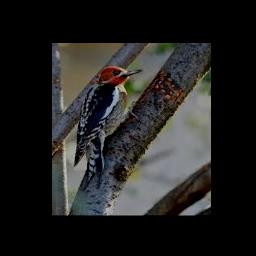Woodpecker: (74, 66, 143, 190)
